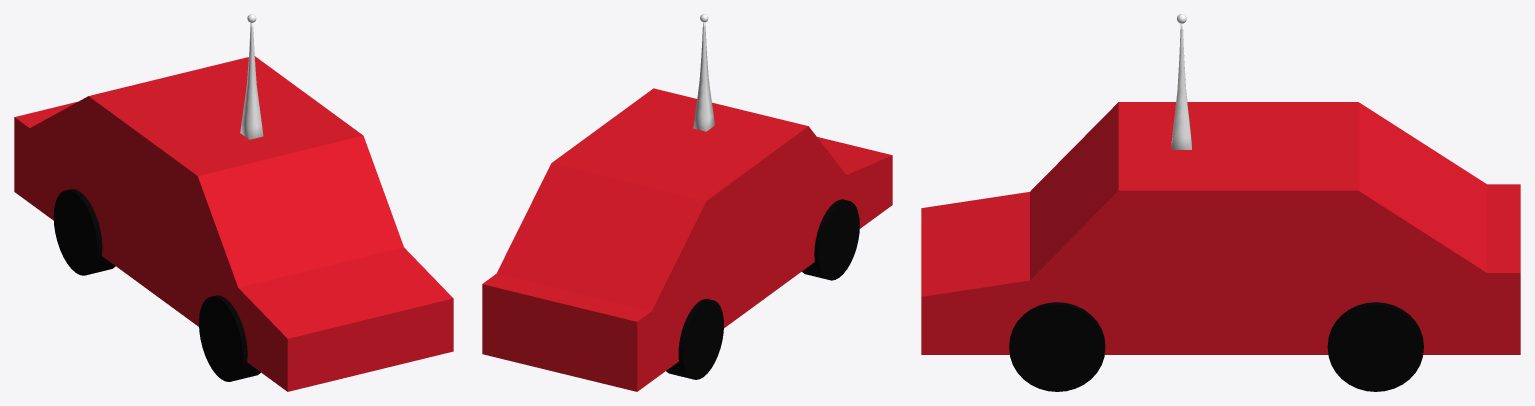
File: car.glb
3 views of the same model, side by side, from view 1: azimuth 30°, elevation 25°; view 2: azimuth 150°, elevation 25°; view 3: azimuth 270°, elevation 25° (orthographic). The views are drawn at different scales.
Visible parts, largest first — view 1: Cube, Cylinder, Cube.001; view 2: Cube, Cylinder, Cube.001; view 3: Cube, Cylinder, Cube.001.
Part boxes in pixels (x1=…): Cube: x1=14, y1=56, x2=453, y2=391; Cylinder: x1=53, y1=189, x2=260, y2=381; Cube.001: x1=240, y1=23, x2=263, y2=139; Cube: x1=482, y1=88, x2=892, y2=391; Cylinder: x1=666, y1=199, x2=859, y2=379; Cube.001: x1=693, y1=22, x2=714, y2=131; Cube: x1=921, y1=102, x2=1520, y2=354; Cylinder: x1=1009, y1=302, x2=1423, y2=391; Cube.001: x1=1171, y1=23, x2=1191, y2=149.
Size of the model in its own units: 0.3958 by 0.6498 by 1.07.
